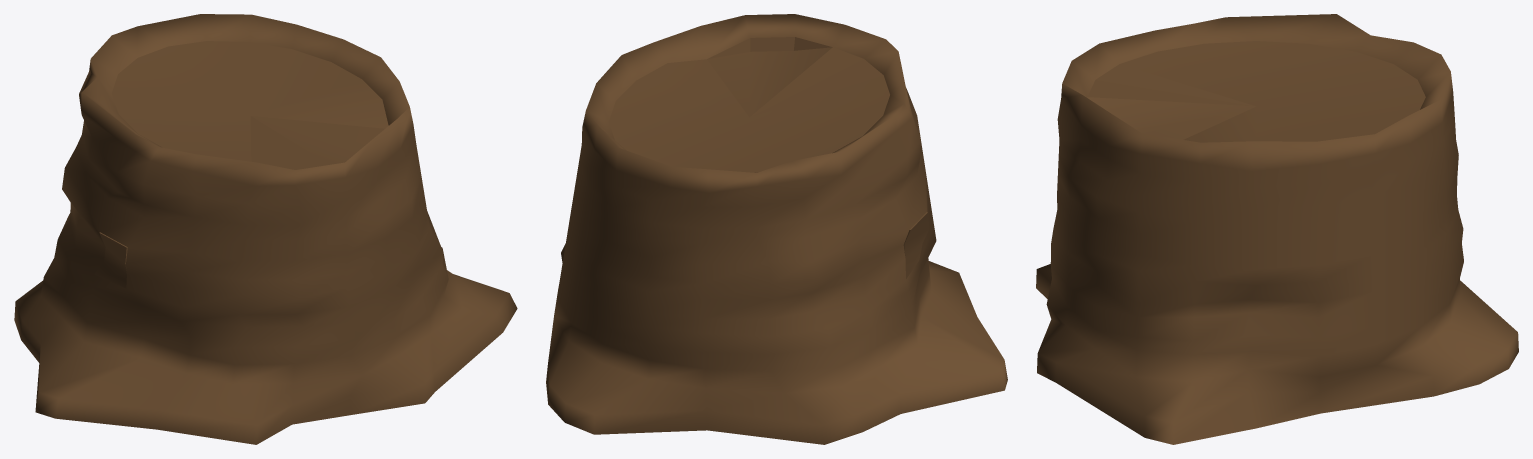
File: treestumps.fbx
The picture shows the model from 3 angles, left to right: view 1: azimuth 30°, elevation 25°; view 2: azimuth 150°, elevation 25°; view 3: azimuth 270°, elevation 25°; orthographic projection. The views are drawn at different scales.
Parts seen in each view (by area): view 1: pCylinder1; view 2: pCylinder1; view 3: pCylinder1.
Boxes of the visible parts, x1,y1,x2,y2 form: pCylinder1: (14, 14, 517, 444); pCylinder1: (546, 14, 1007, 444); pCylinder1: (1036, 14, 1518, 444).
Bounding box in the file's own units: 27.55 × 14.68 × 24.33.
